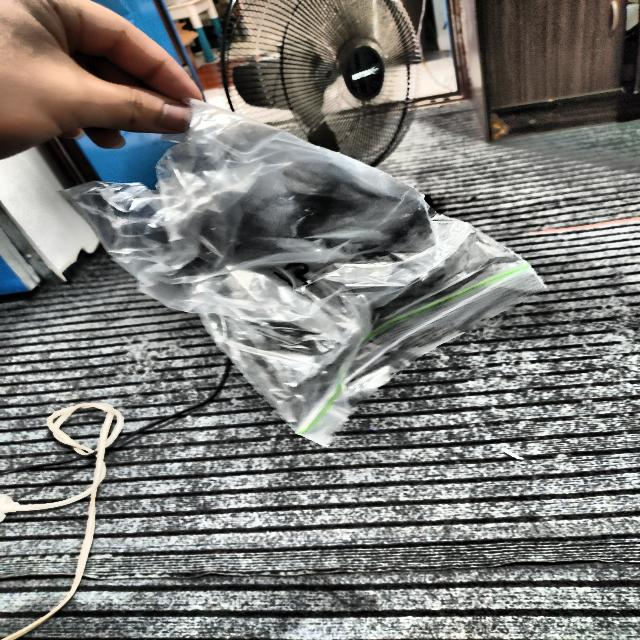plastic bag: (63, 102, 543, 445)
